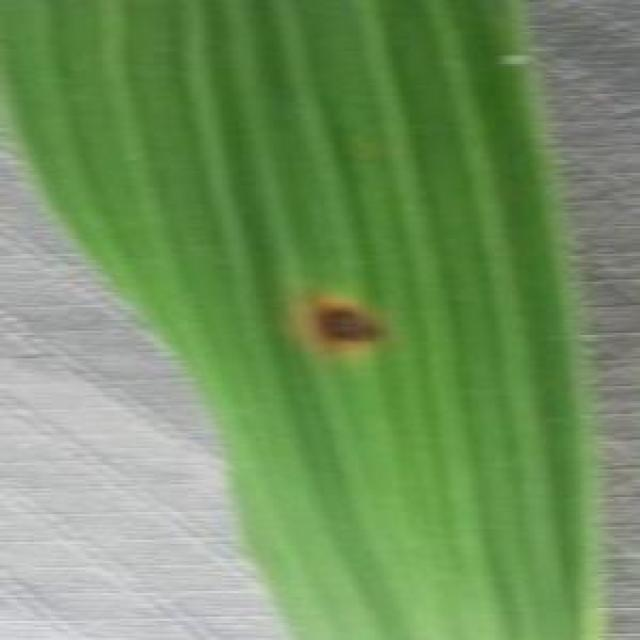brownspots: (311, 290, 382, 360)
